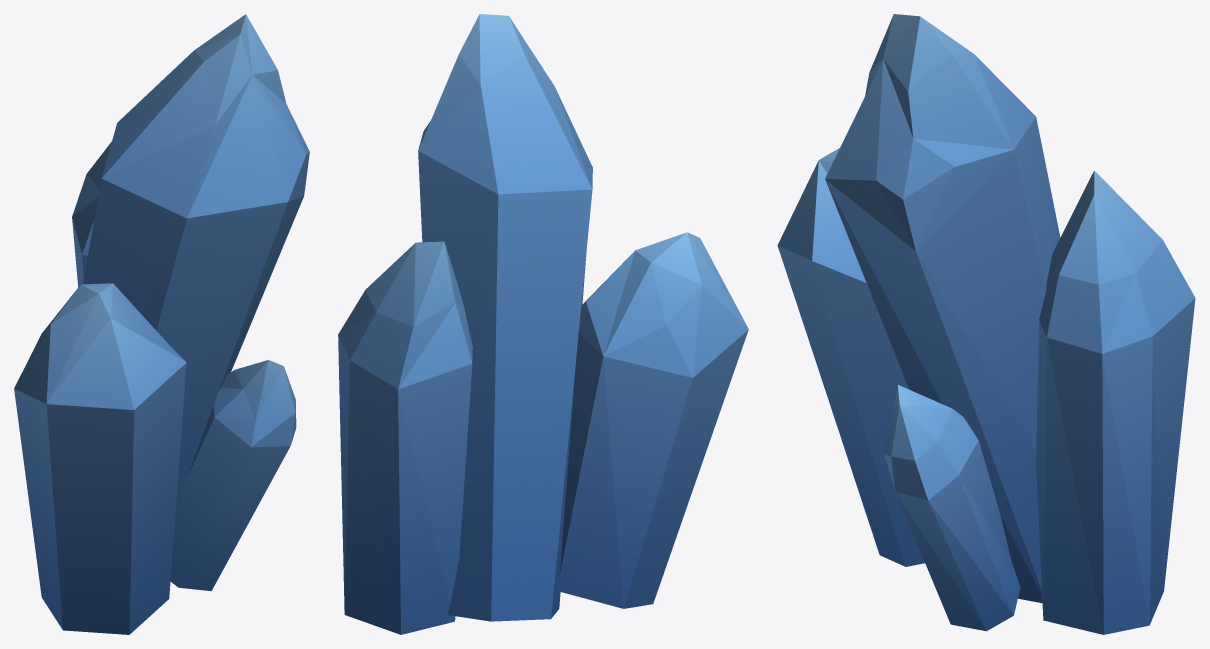
The model's file is crystals_05.fbx.
3 renders of one model, left to right at view 1: azimuth 30°, elevation 25°; view 2: azimuth 150°, elevation 25°; view 3: azimuth 270°, elevation 25°, orthographic. The views are drawn at different scales.
Visible parts, largest first — view 1: crystal_005; view 2: crystal_005; view 3: crystal_005.
Boxes of the visible parts, x1,y1,x2,y2 form: crystal_005: (14, 14, 309, 634); crystal_005: (338, 14, 748, 634); crystal_005: (777, 14, 1195, 634).
Size of the model in its own units: 5.25 by 9.66 by 5.91.
Materials: 1 (1 with a texture image).
